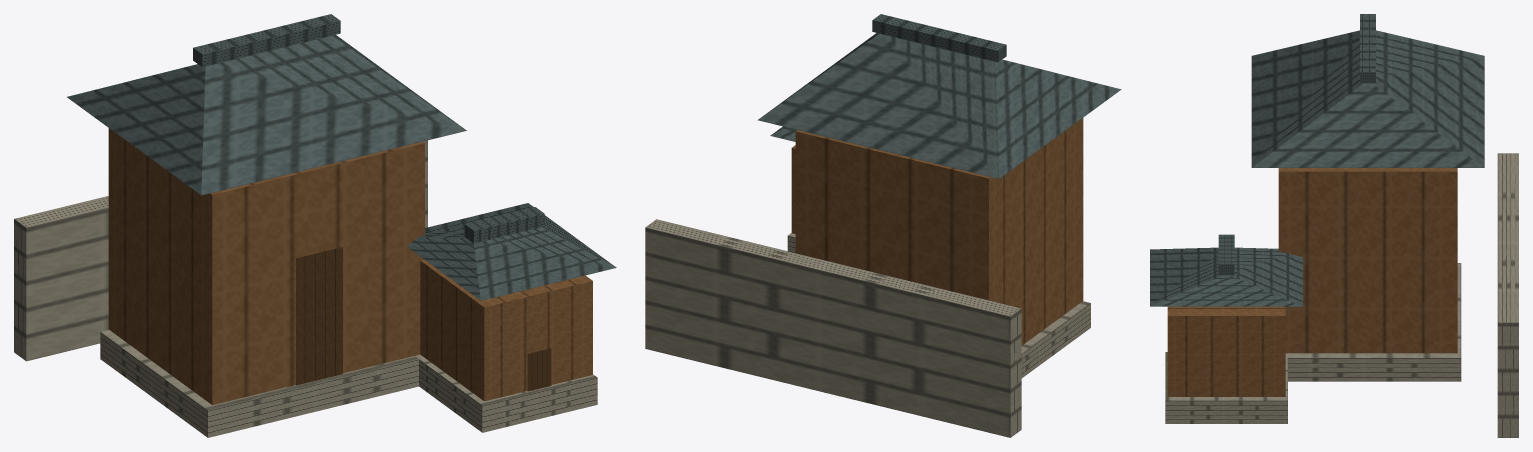
The model's file is domestic-STABLE-3-lod2.glb.
3 views of the same model, side by side, from view 1: azimuth 30°, elevation 25°; view 2: azimuth 150°, elevation 25°; view 3: azimuth 270°, elevation 25° (orthographic). The views are drawn at different scales.
Size of the model in its own units: 0.85 by 0.691 by 0.7825.
Materials: 1 (1 with a texture image).
